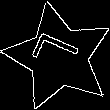L_SE: (29, 33, 88, 81)
